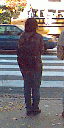person: (9, 13, 51, 118)
